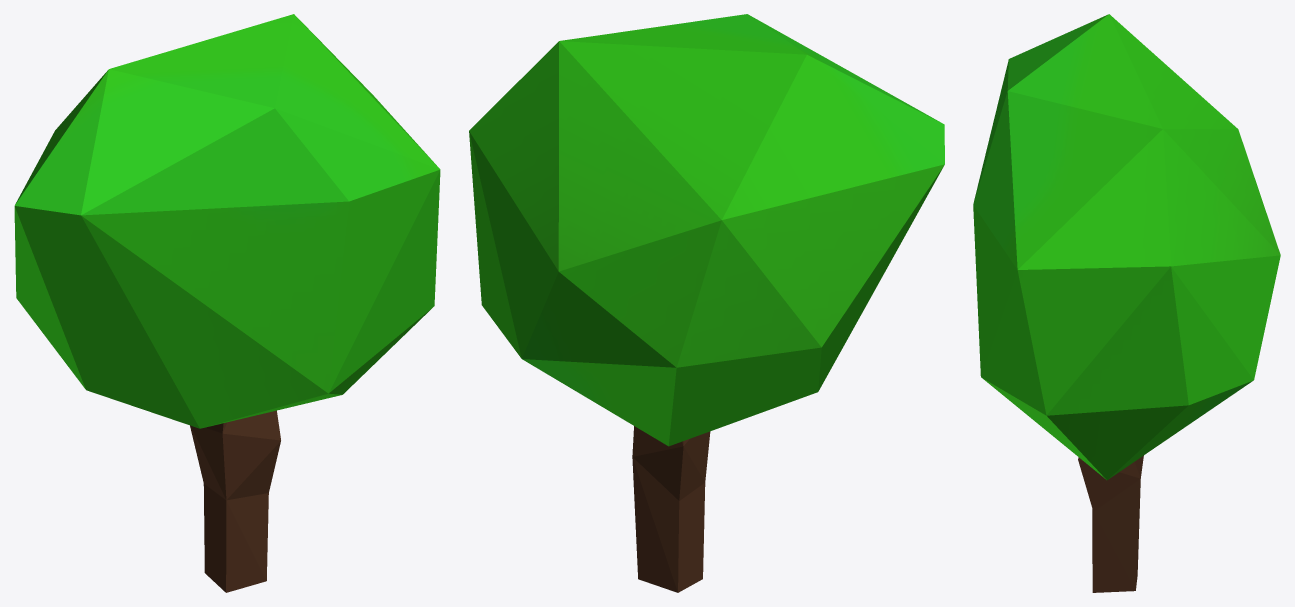
Rendered from Tree_T2.fbx.
3 renders of one model, left to right at view 1: azimuth 30°, elevation 25°; view 2: azimuth 150°, elevation 25°; view 3: azimuth 270°, elevation 25°, orthographic. The views are drawn at different scales.
Visible parts, largest first — view 1: Tree_T2; view 2: Tree_T2; view 3: Tree_T2.
Boxes of the visible parts, bbox=[...] form: Tree_T2: bbox=[14, 14, 440, 592]; Tree_T2: bbox=[469, 14, 944, 592]; Tree_T2: bbox=[973, 14, 1280, 592].
Size of the model in its own units: 286 by 361 by 196.
